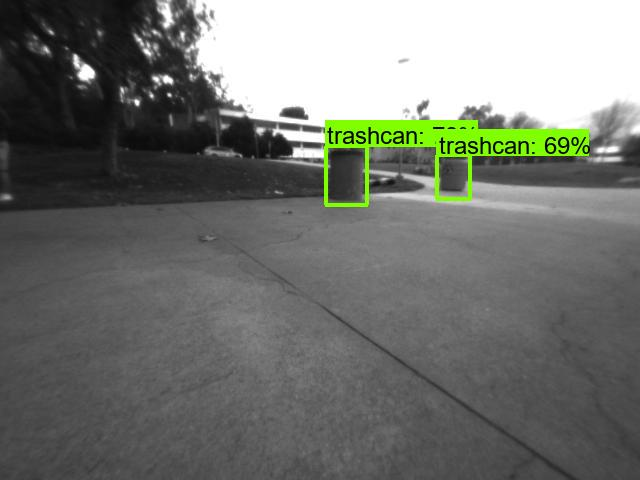trashcan: (331, 151, 363, 201), (439, 157, 471, 193)
